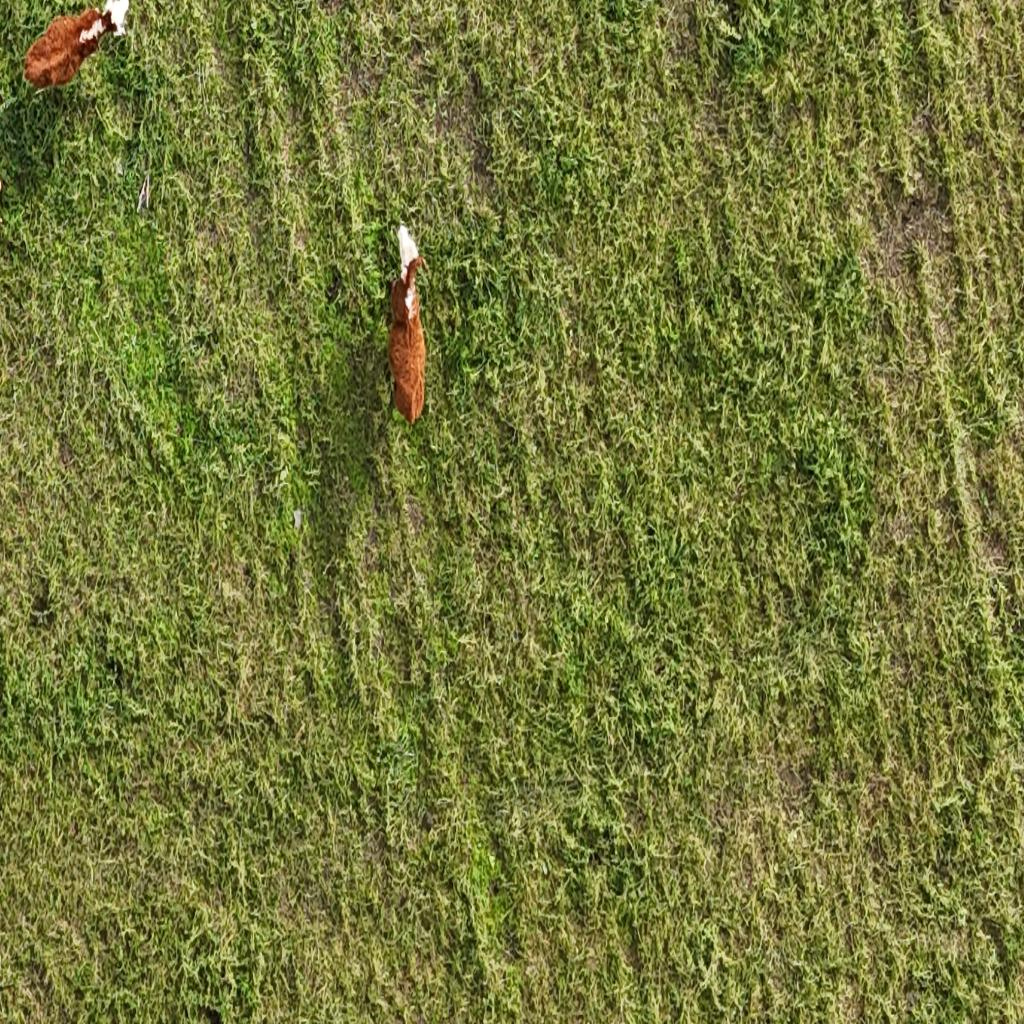cow: (19, 0, 132, 95), (384, 223, 432, 436)
